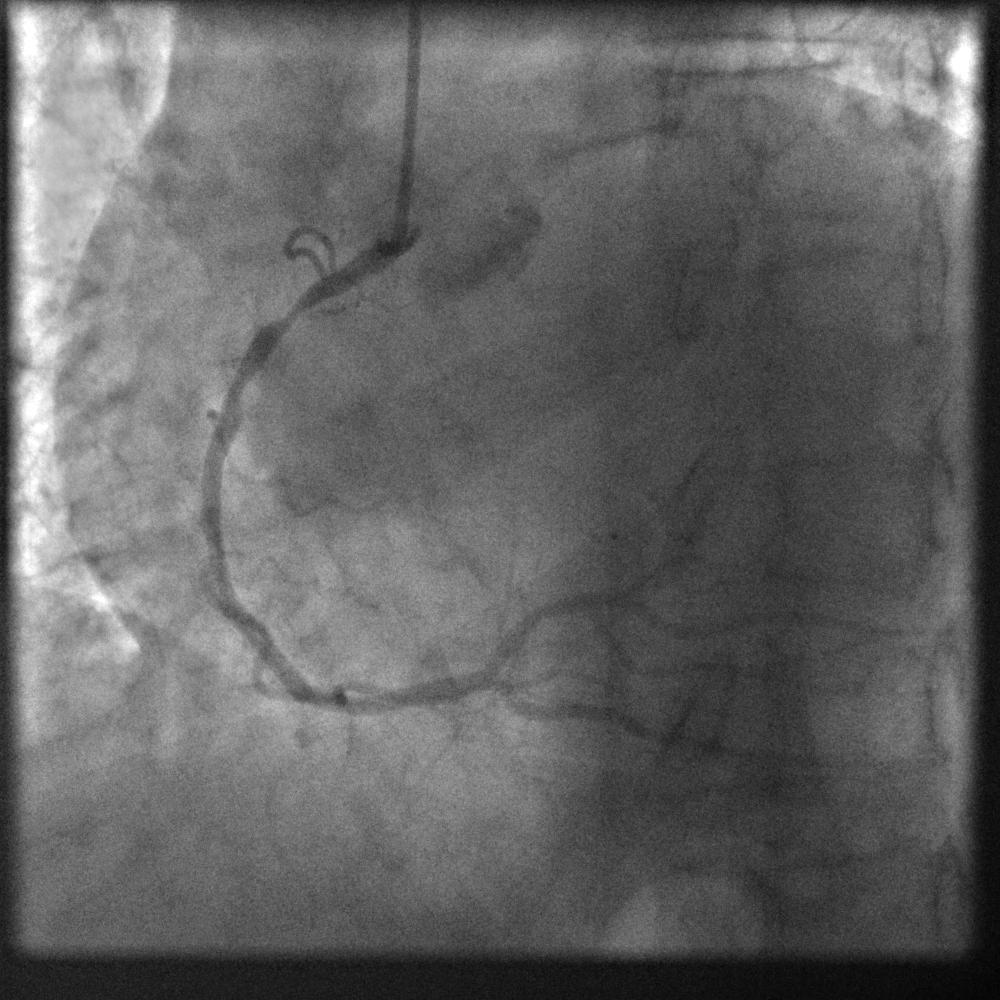Stenosis: (258, 297, 312, 335)
